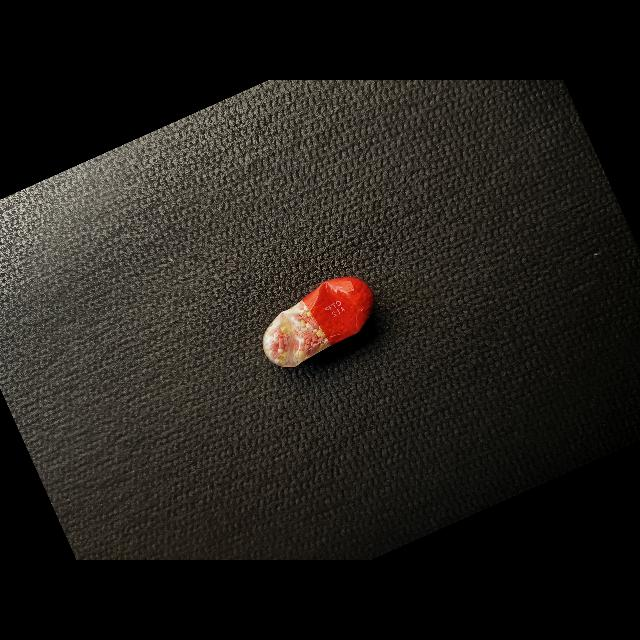Defective Capsule: (262, 277, 374, 367)
